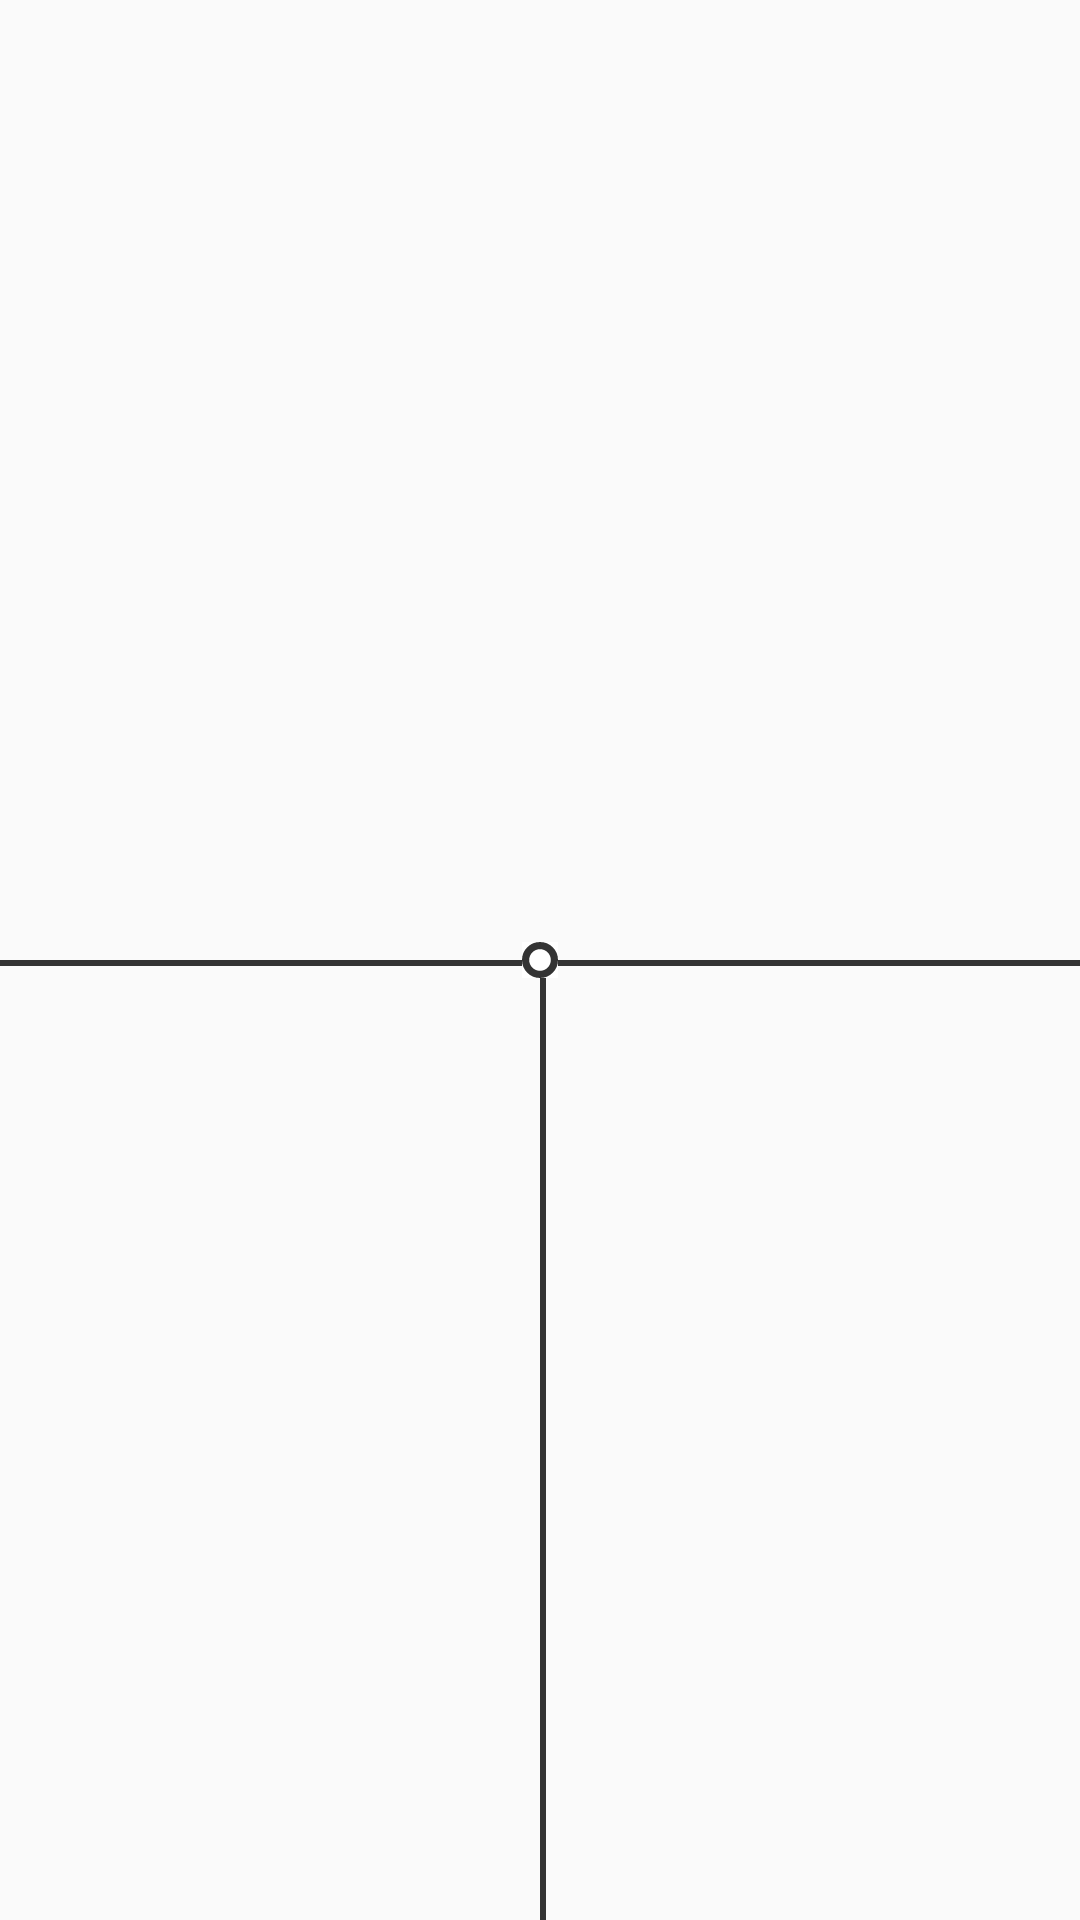

Locate icon controls on the screen. Image size 1080px x 1920px, boxes as [left=x1, top=y1, right=x2, bottom=y2].
circle: [left=522, top=942, right=558, bottom=978]
